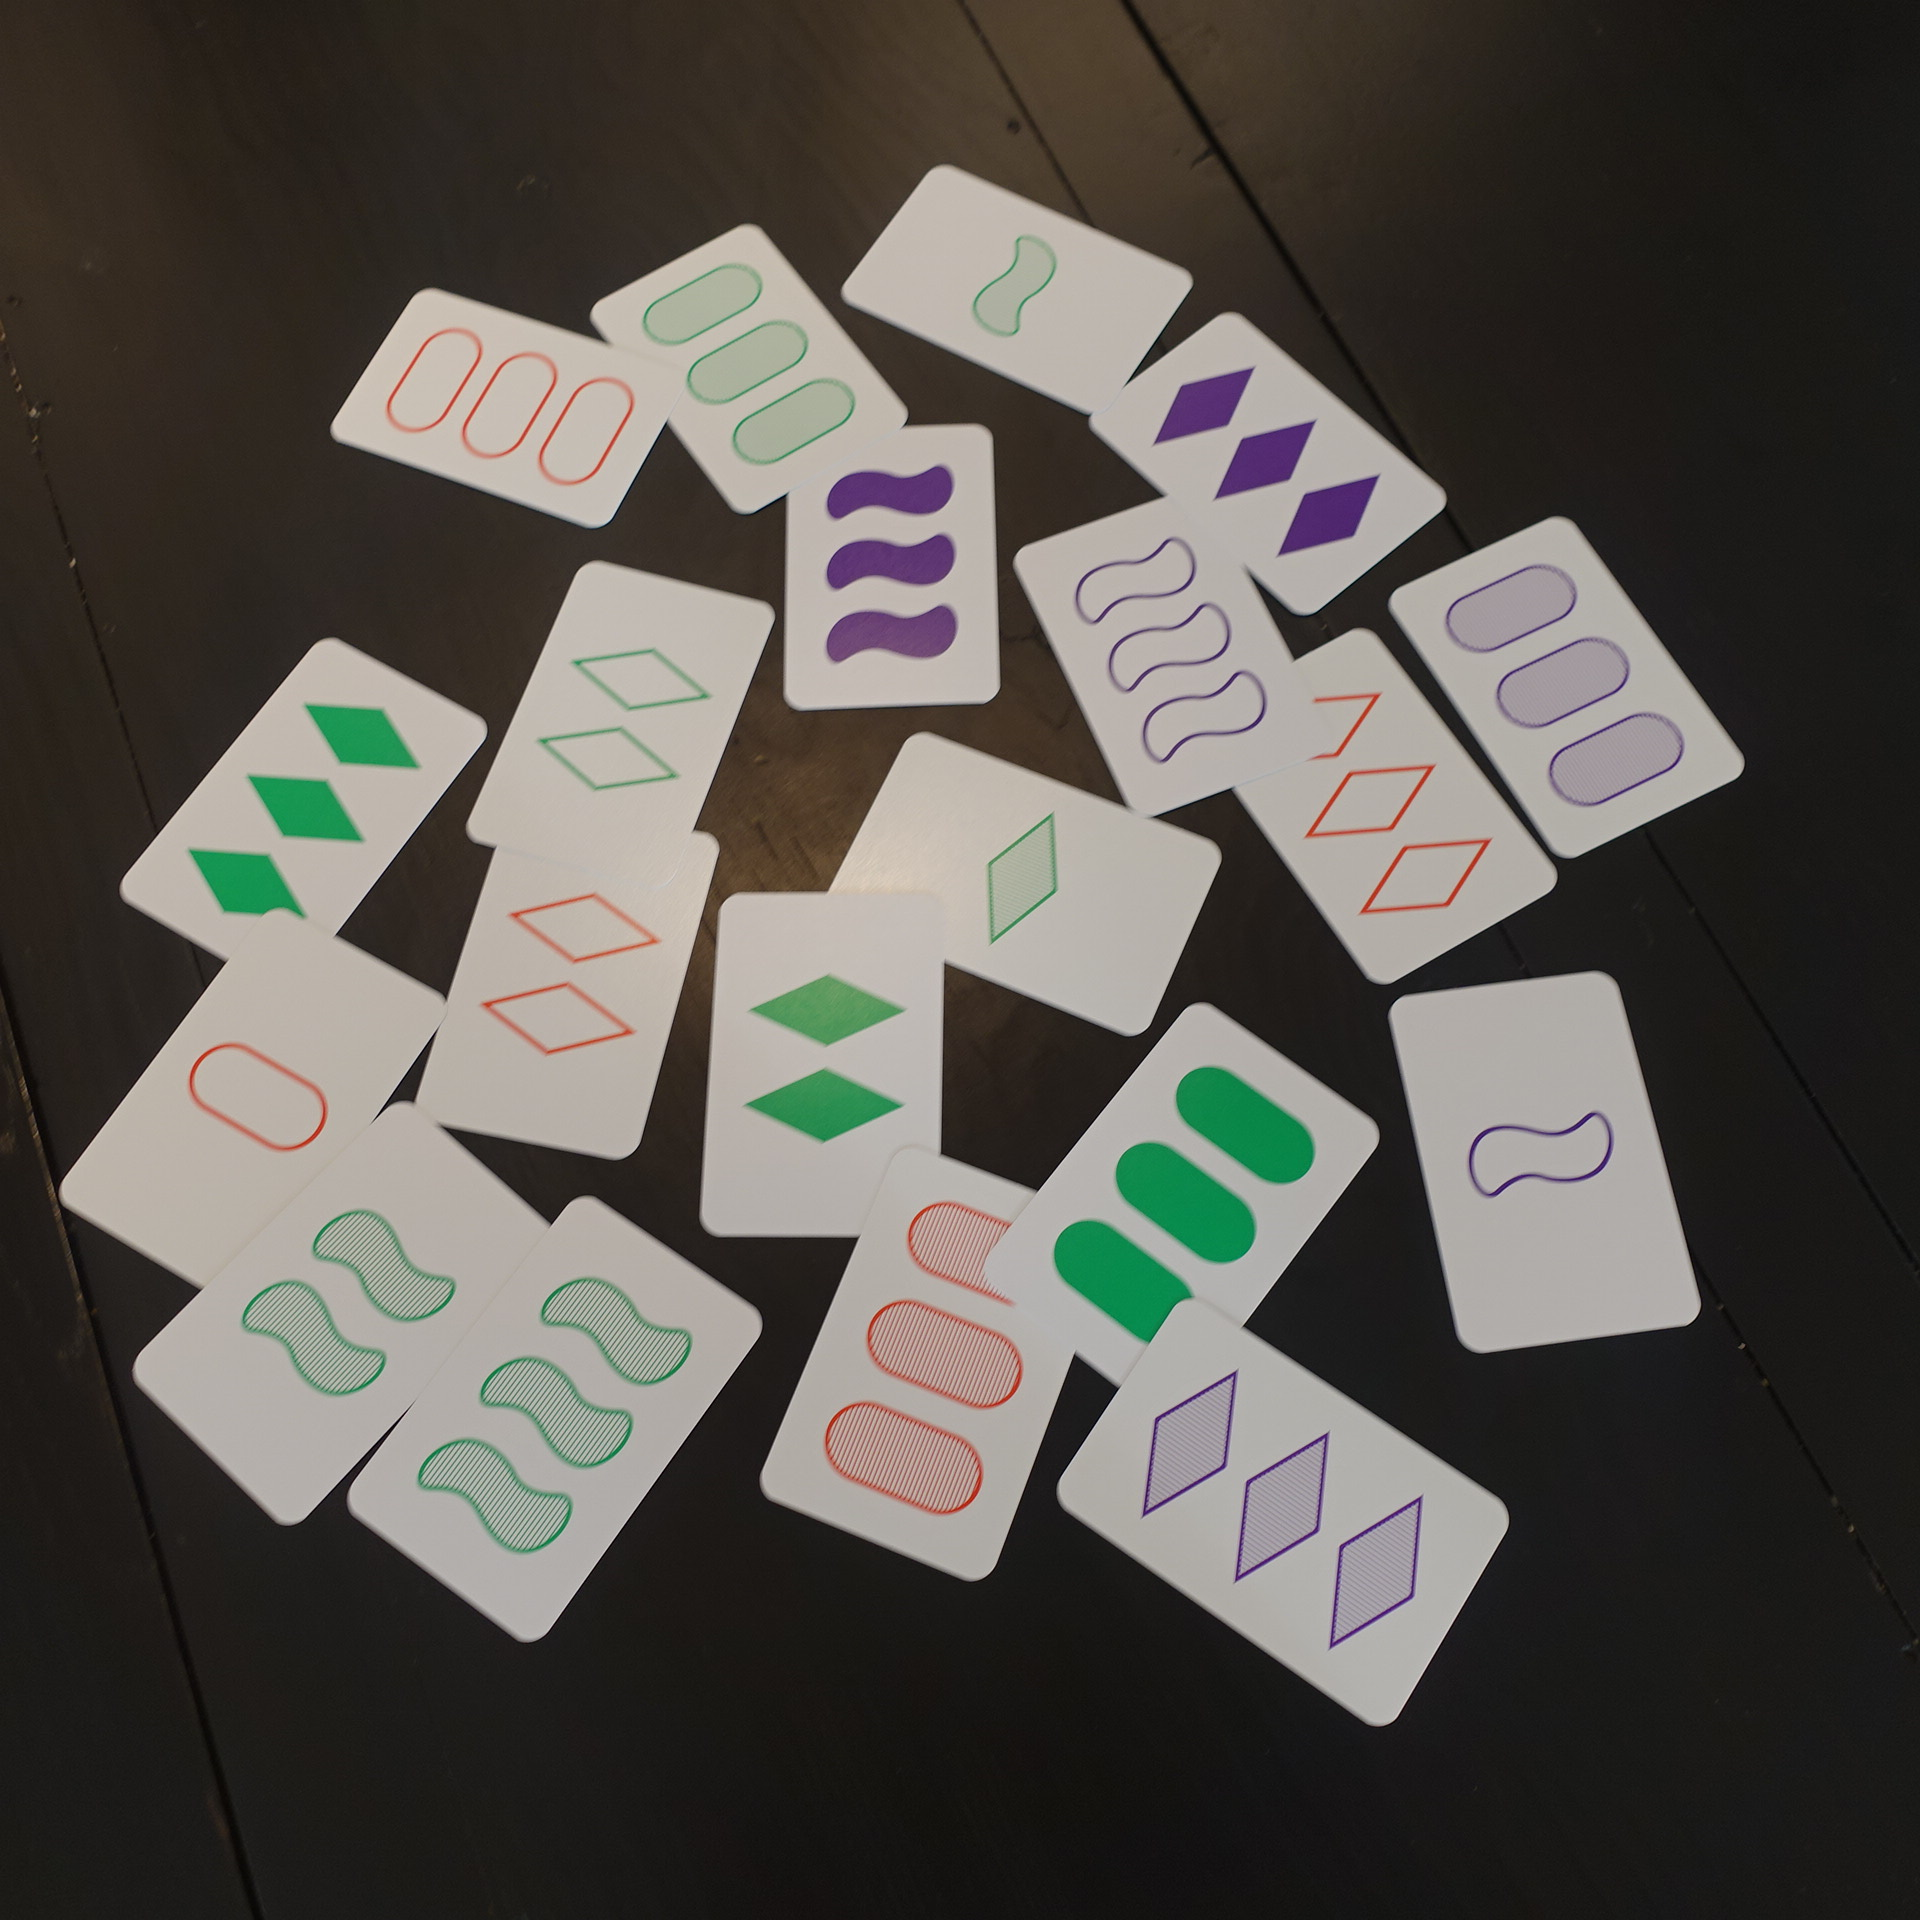c-2-f-d-r: (1050, 1289, 1517, 1732), (339, 1189, 772, 1647), (121, 1099, 573, 1537), (972, 999, 1387, 1407), (46, 904, 461, 1308), (753, 1138, 1109, 1586), (1382, 499, 1755, 869), (1378, 953, 1713, 1363), (111, 628, 494, 985), (816, 719, 1227, 1046), (1201, 622, 1565, 992), (1083, 304, 1456, 629), (408, 804, 726, 1164), (1002, 484, 1335, 823), (457, 554, 786, 893), (580, 218, 918, 527), (687, 879, 962, 1250), (832, 156, 1206, 425), (318, 281, 689, 538), (770, 404, 1013, 721)
